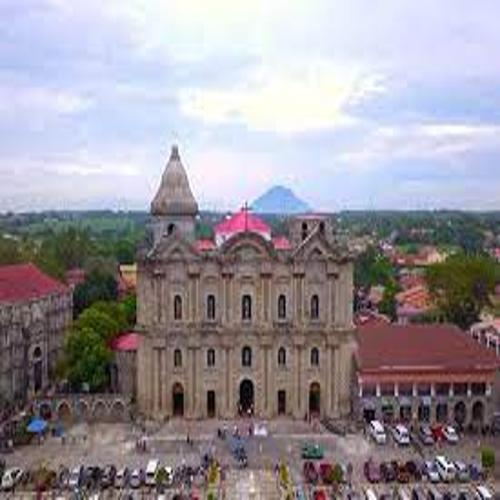Taal Basilica Church: (126, 138, 361, 444)
